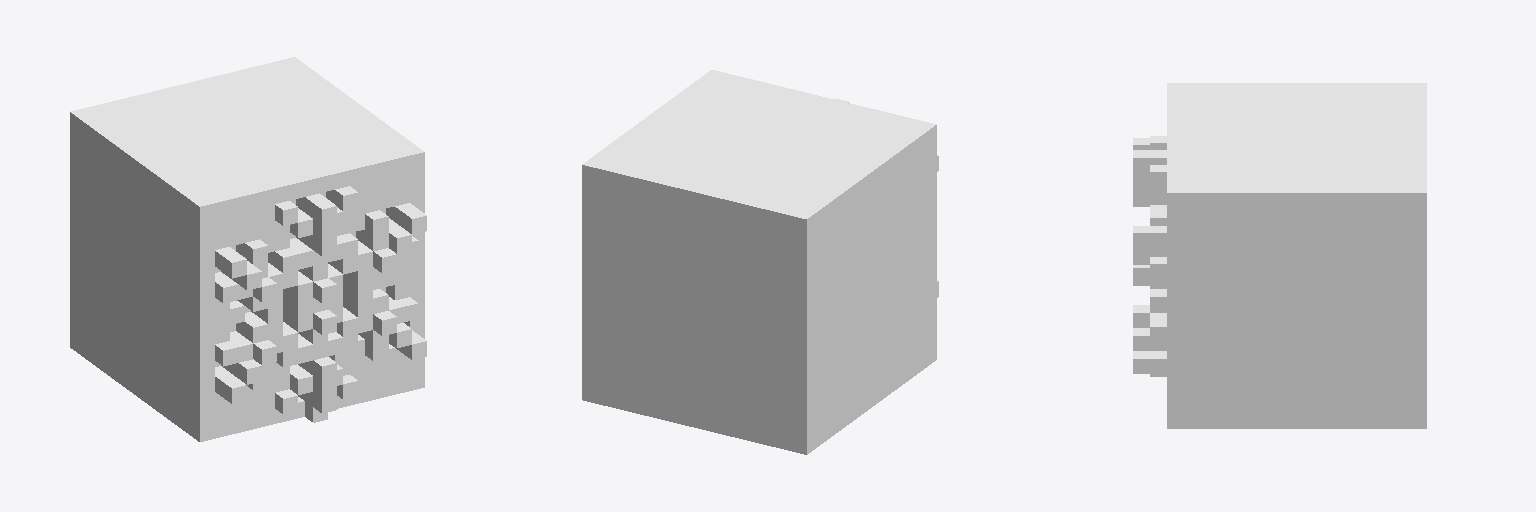
File: frost_cube.obj
3 renders of one model, left to right at view 1: azimuth 30°, elevation 25°; view 2: azimuth 150°, elevation 25°; view 3: azimuth 270°, elevation 25°, orthographic.
Visible parts, largest first — view 1: object 1; view 2: object 1; view 3: object 1.
Boxes of the visible parts, x1,y1,x2,y2 form: object 1: [70, 57, 426, 441]; object 1: [582, 70, 938, 454]; object 1: [1133, 83, 1426, 428].
Size of the model in its own units: 1.5 by 1.5 by 1.7.